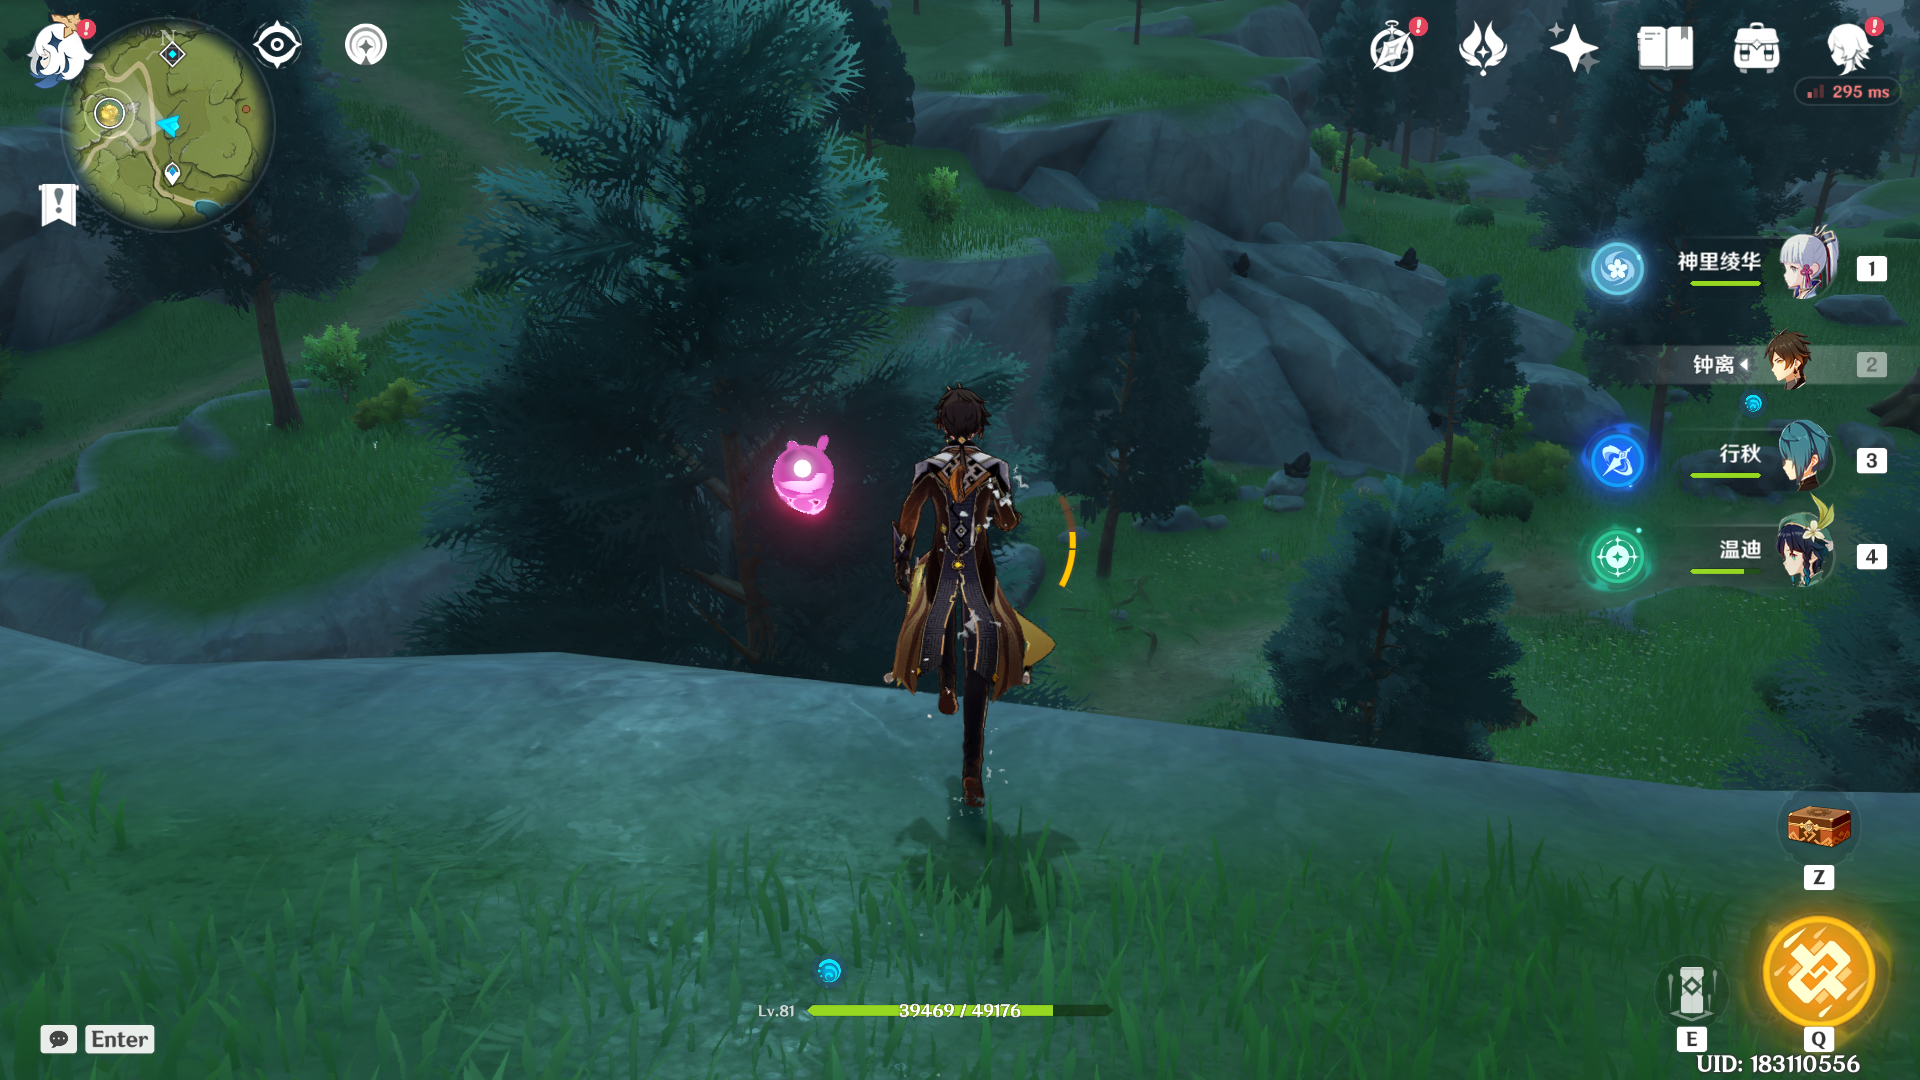character: (800, 339, 1126, 843)
